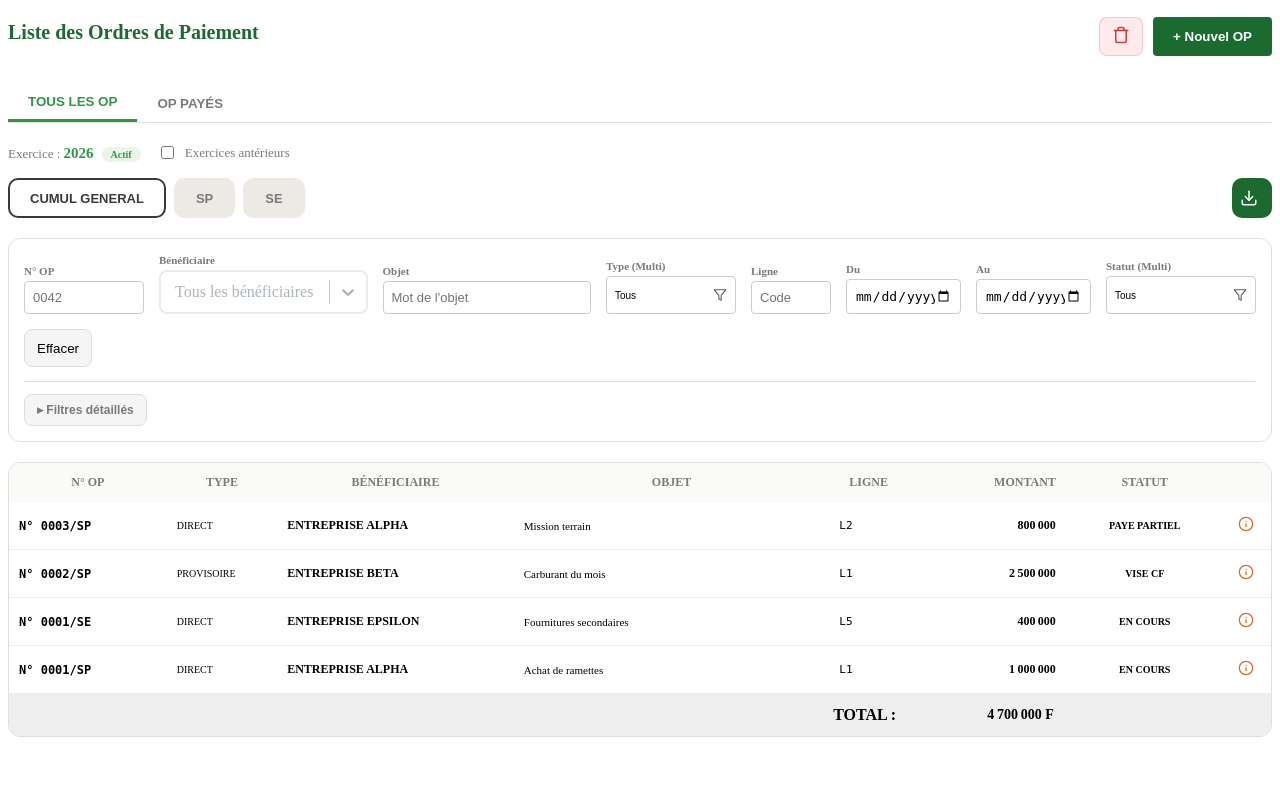
Test: Liste OP — la corbeille › la corbeille liste les OP supprimés, avec leur auteur
Click the button titled "Corbeille (OP supprimés)" at (1121, 36), box [1099,17,1143,56]
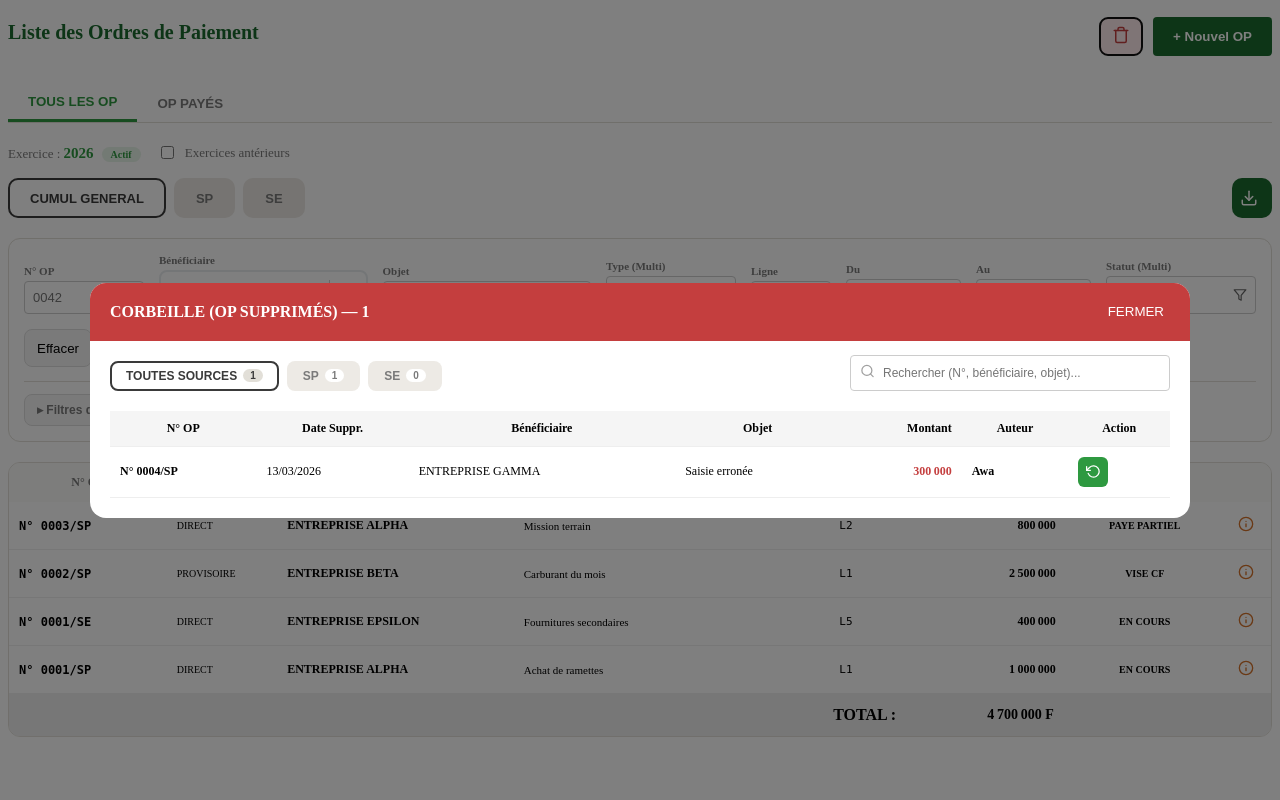
Result: the text "Saisie erronée" is shown at [675,446,840,497]
Result: the text "Awa" is shown at [962,446,1068,497]
